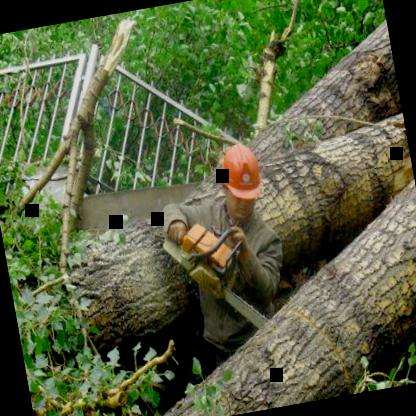helmet: (209, 134, 270, 224)
